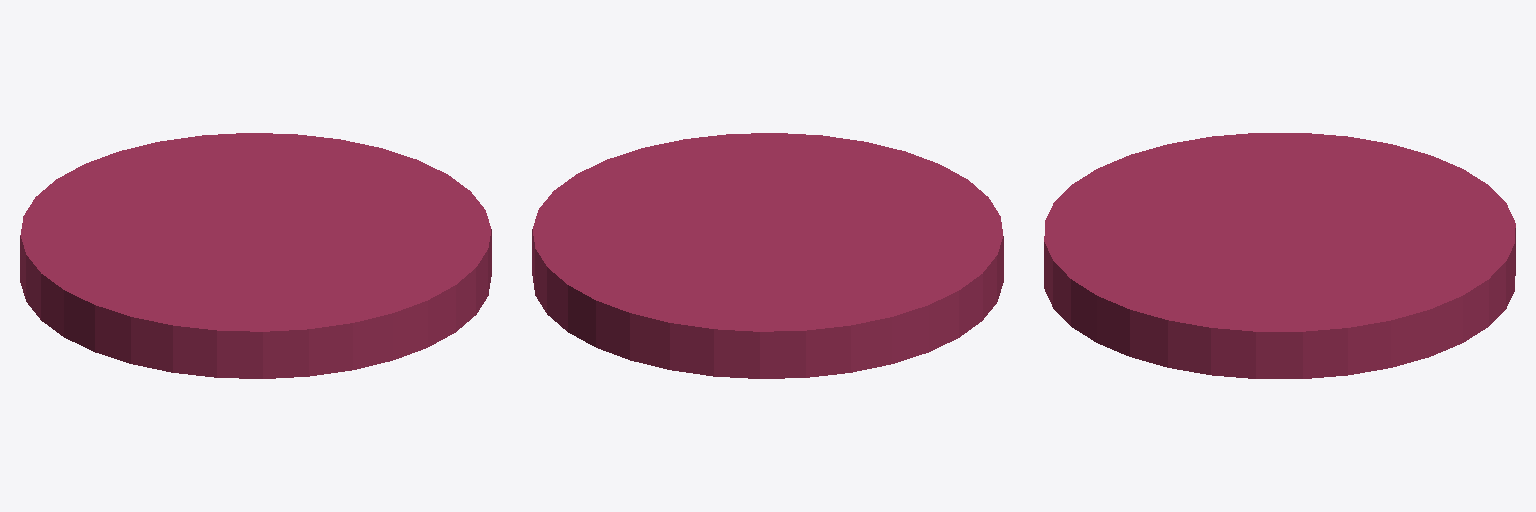
The robot description file, URDF, robot "Interference":
<?xml version="1.0"?>
<robot name="Interference">
  <link name="baseLink">
    <inertial>
      <origin xyz="0.0 0.0 0.0" rpy="0.0 0.0 0.0"/>
      <inertia ixx="0.0" ixy="0.0" ixz="0.0" iyy="0.0" iyz="0.0" izz="0.0"/>
      <mass value="0"/>
    </inertial>
    <visual>
      <origin xyz="0.0 0.0 0.0" rpy="0.0 0.0 1.078472011955875"/>
      <geometry>
        <cylinder radius="0.04515245596463336" length="0.01"/>
      </geometry>
      <material name="color">
        <color rgba="0.6791884135947412 0.26162053780197136 0.41064109052292574 1.0"/>
      </material>
    </visual>
  </link>
</robot>

--- Facts derived from the render (not from the file) ---
Views: 3 orthographic renders of the robot side by side, from view 1: azimuth 30°, elevation 25°; view 2: azimuth 150°, elevation 25°; view 3: azimuth 270°, elevation 25°.
Robot: Interference — 1 links, 0 joints (none); root link baseLink; default pose: all joints at 0.
Visible links, largest first — view 1: baseLink; view 2: baseLink; view 3: baseLink.
Link boxes in pixels (x1=…): baseLink: x1=20, y1=133, x2=491, y2=378; baseLink: x1=532, y1=133, x2=1003, y2=378; baseLink: x1=1044, y1=133, x2=1515, y2=378.
Size in the robot's own frame: 0.0899 by 0.0899 by 0.01 metres.
Geometry: primitives only (box / cylinder / sphere), no mesh files.